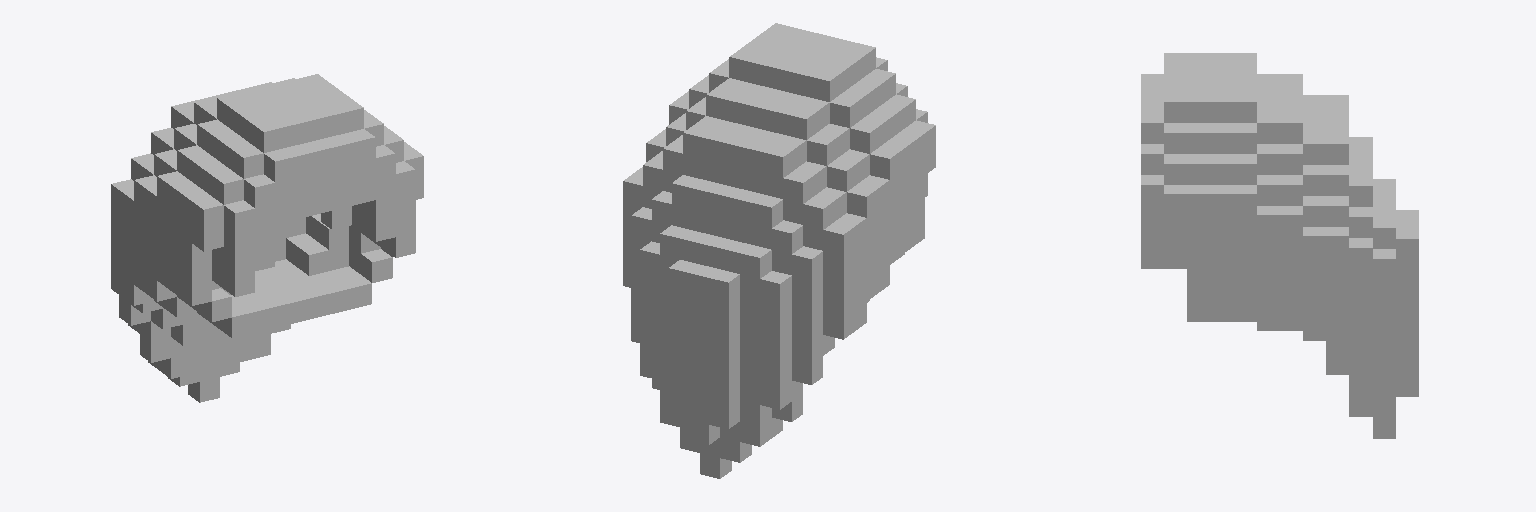
Rendered from wizardhead.obj.
The picture shows the model from 3 angles: view 1: azimuth 30°, elevation 25°; view 2: azimuth 150°, elevation 25°; view 3: azimuth 270°, elevation 25°; orthographic projection.
Visible parts, largest first — view 1: SamAsWizard; view 2: SamAsWizard; view 3: SamAsWizard.
Part boxes in pixels (left/top/right/bottom): SamAsWizard: left=111, top=74, right=423, bottom=402; SamAsWizard: left=623, top=23, right=935, bottom=478; SamAsWizard: left=1141, top=53, right=1418, bottom=438.
Bounding box in the file's own units: 11 × 17 × 12.